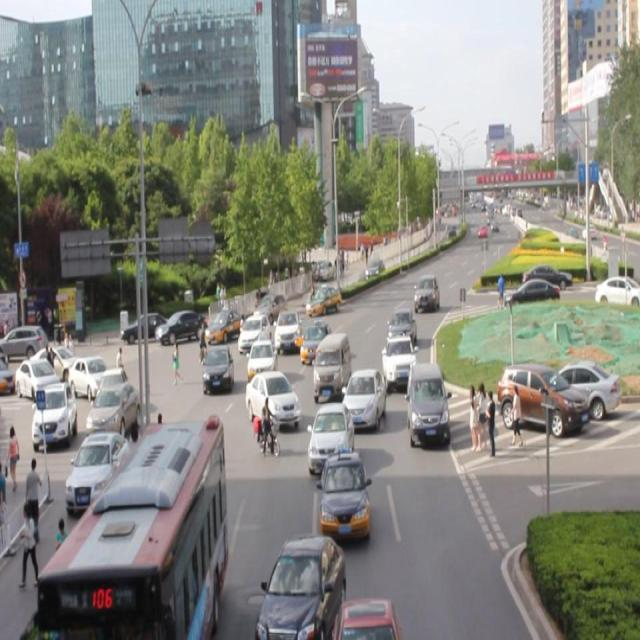car: (257, 532, 342, 640), (320, 452, 369, 542), (307, 402, 354, 478), (408, 363, 448, 443), (246, 369, 302, 426), (340, 368, 386, 432), (336, 597, 398, 640), (382, 334, 414, 388), (304, 316, 338, 362), (203, 343, 233, 394), (237, 314, 272, 357), (274, 307, 304, 357), (247, 339, 278, 385), (311, 279, 348, 315), (388, 306, 416, 347), (414, 274, 439, 310)
truck: (312, 331, 350, 399)
van: (40, 419, 221, 640)
